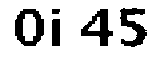0: (11, 4, 45, 48)
4: (79, 2, 115, 54)
5: (119, 6, 149, 49)
i: (49, 3, 63, 51)
